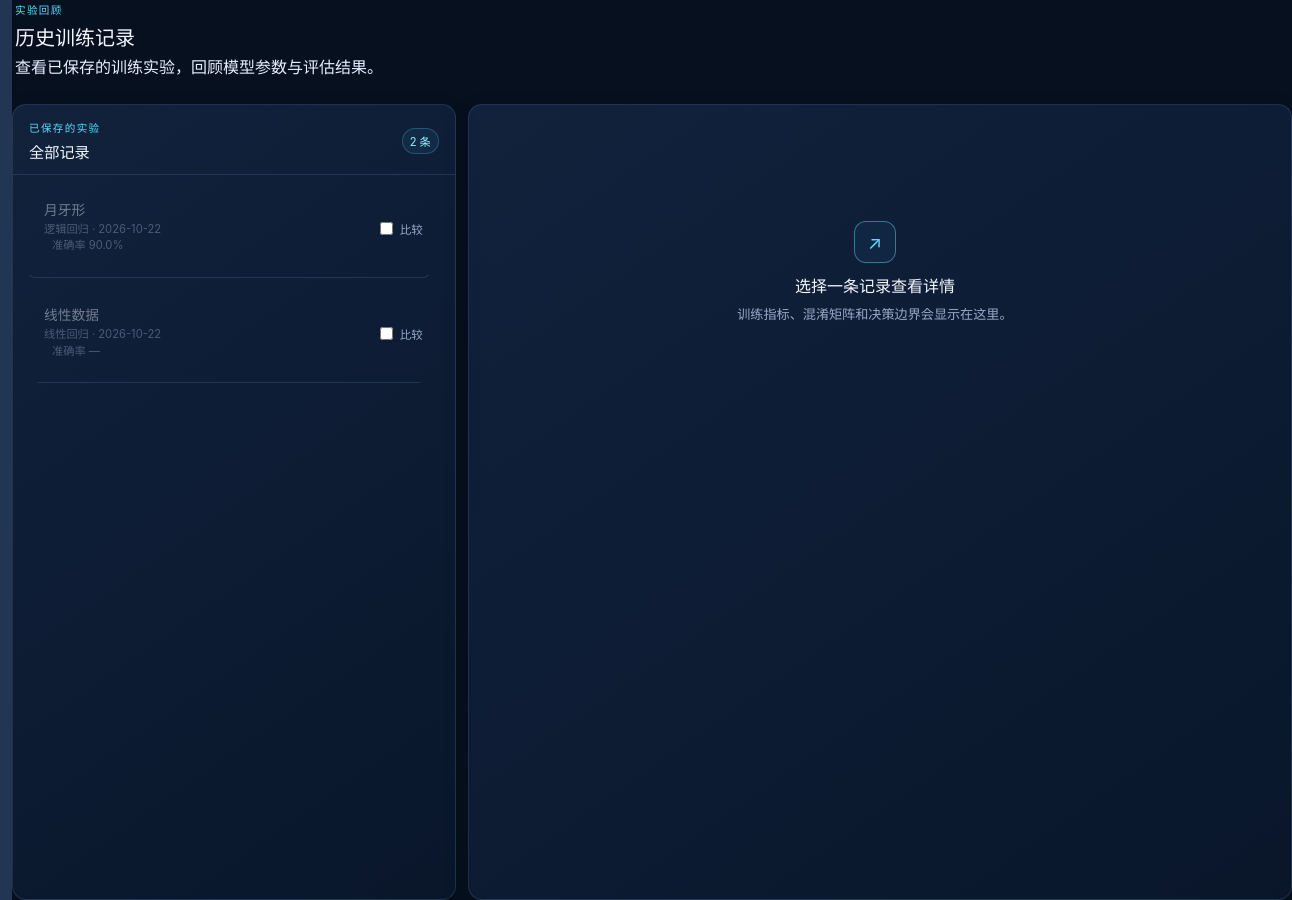
HistoryPage › 比较回归指标和分类指标来源、配置、样本规模与训练单位
The width and height of the screenshot is (1292, 900).
Click the 1st checkbox labelled "比较" at (386, 229), box [380,222,393,235]
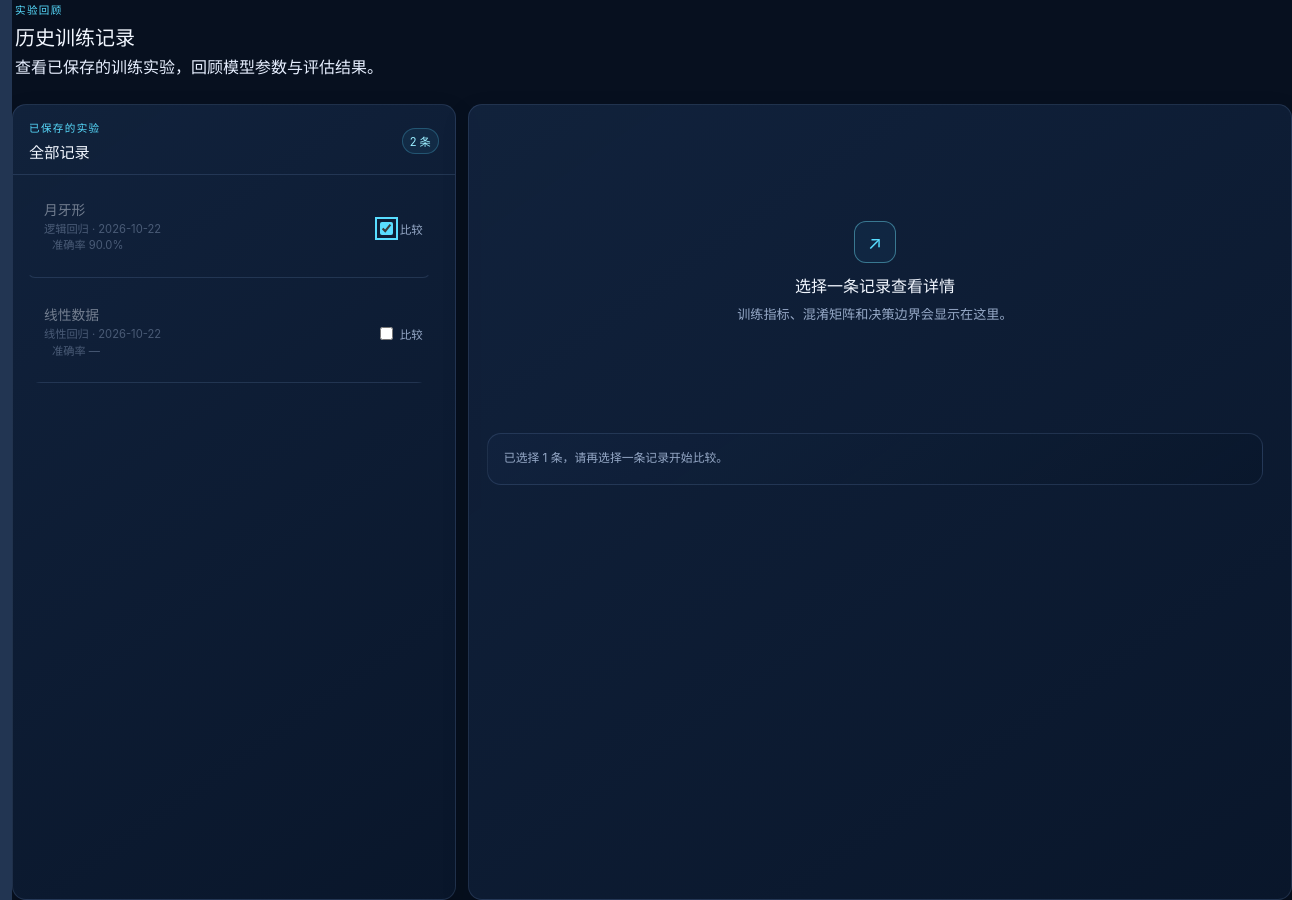
Click the 2nd checkbox labelled "比较" at (386, 334), box [380,327,393,340]
(page scrolled)
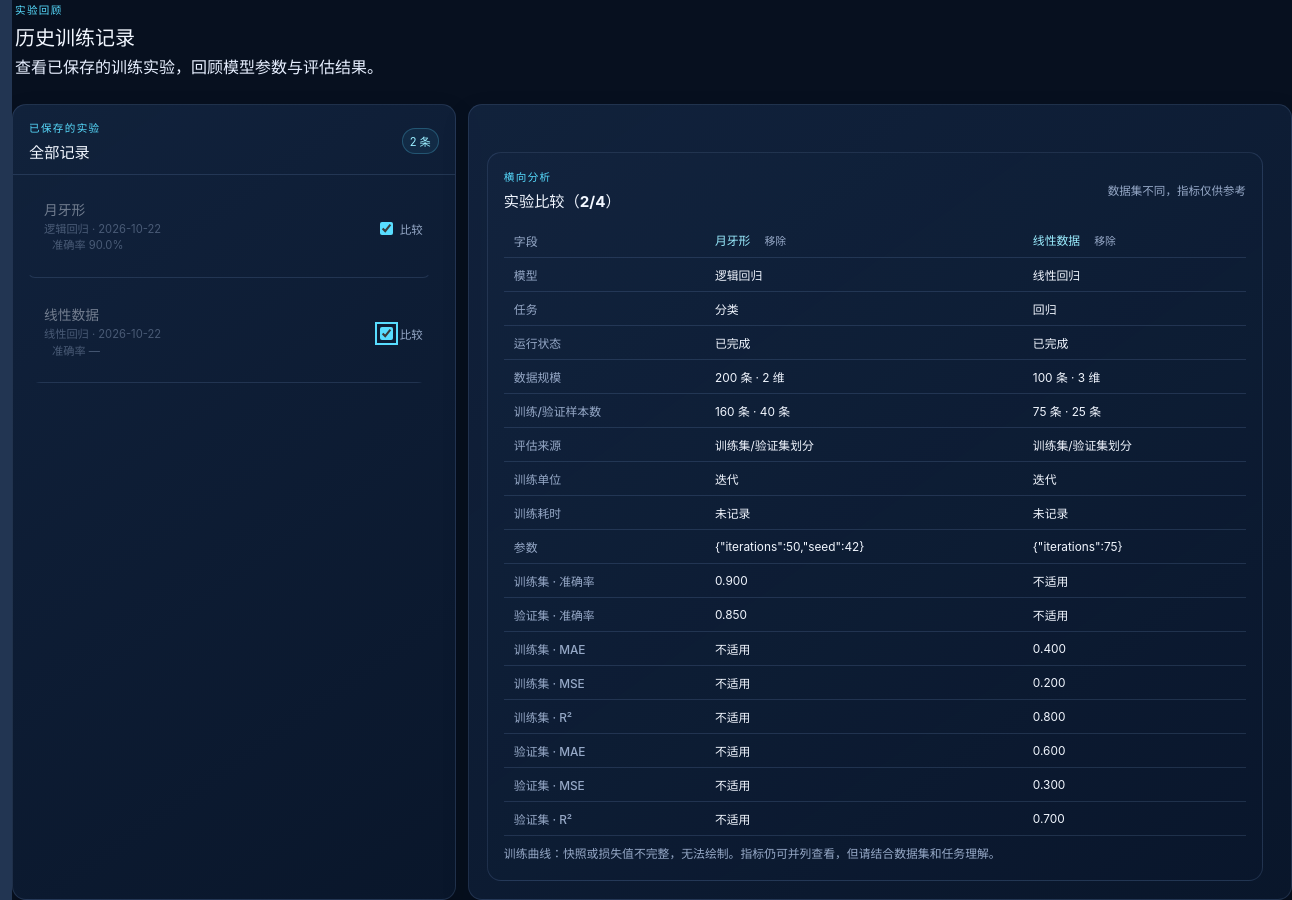
Expected: the element with test id "history-comparison" shows "回归", [1033,303,1056,317]
Expected: the element with test id "history-comparison" shows "训练集 · MAE", [514,643,586,657]
Expected: the element with test id "history-comparison" shows "验证集 · R²", [514,813,572,827]
